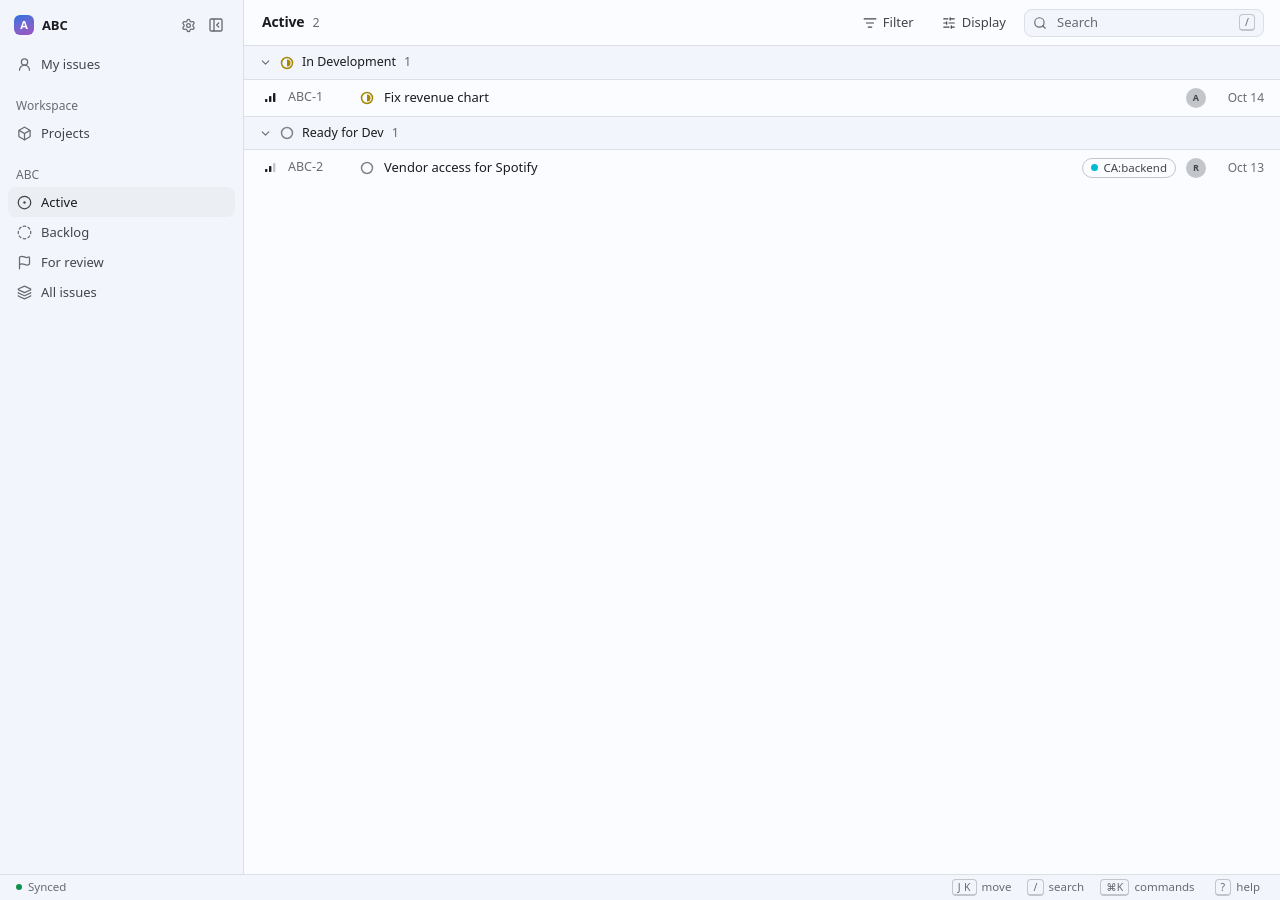
Test: create issue › Escape closes the dialog without creating anything, but first closes an open list
Check: the list named "Issues" is shown, box [244, 46, 1279, 178]
Check: the text "Fix revenue chart" is shown, box [384, 88, 489, 106]
Type keys "c"
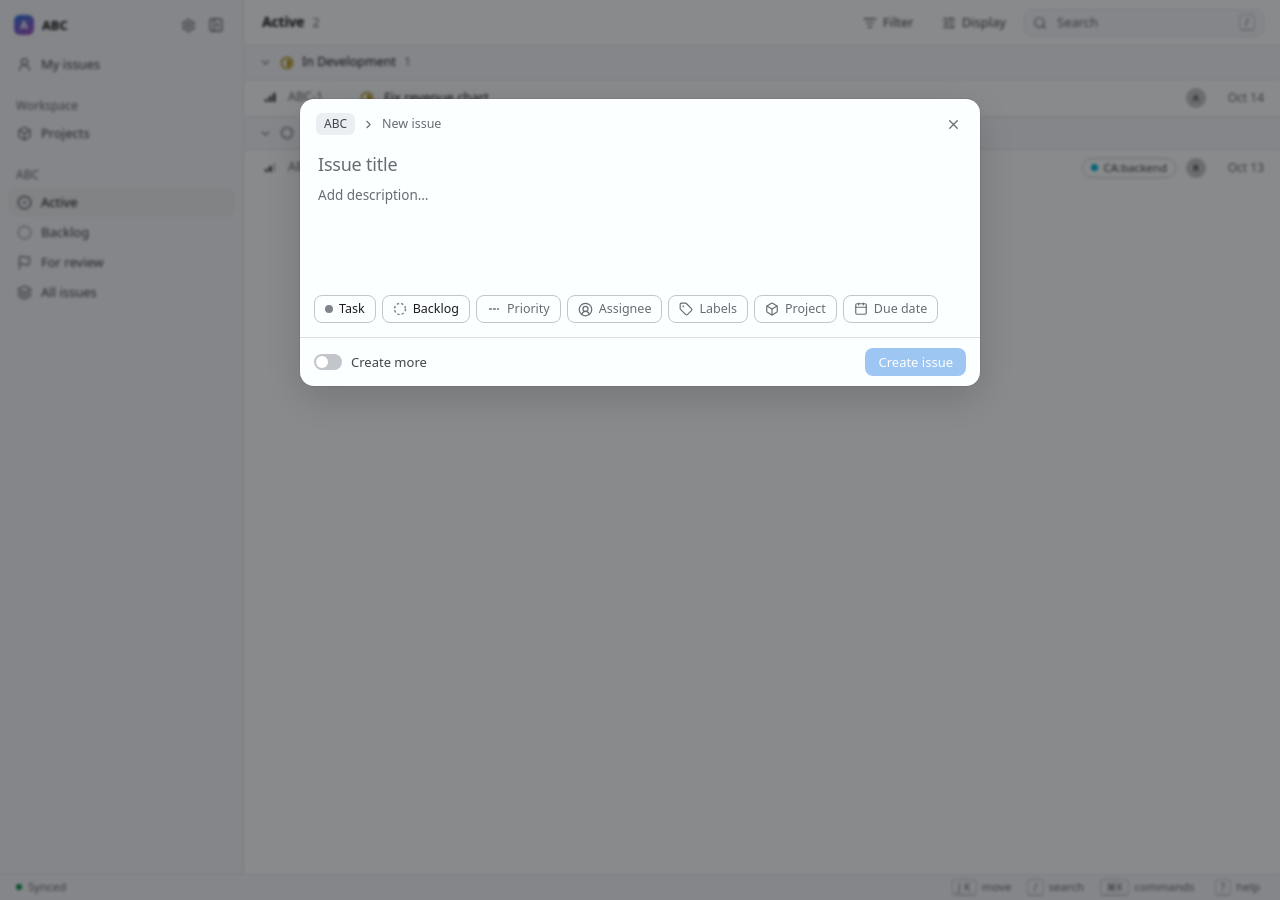
Check: the dialog named "Create issue" is shown, box [300, 99, 980, 386]
Type keys "Never mind"
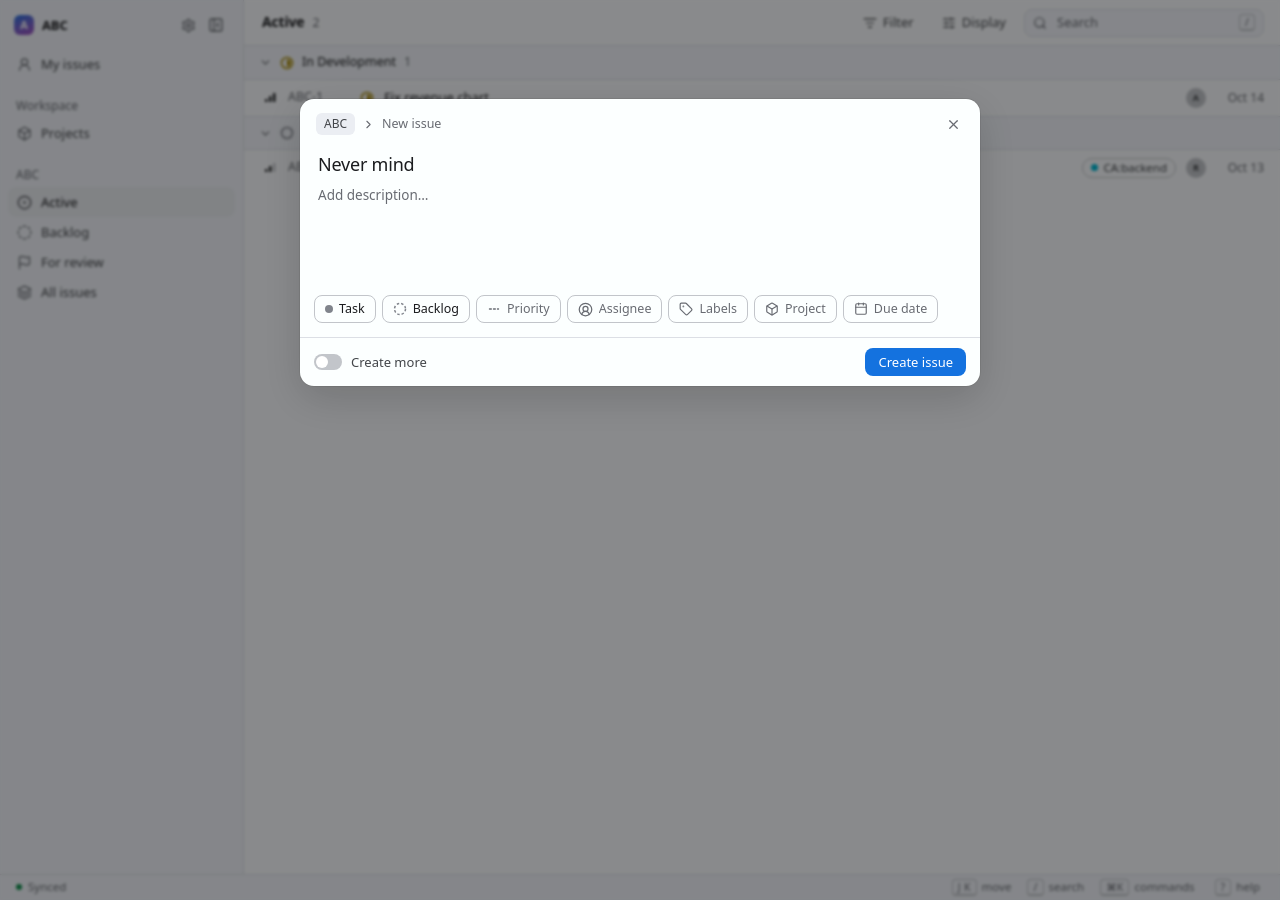
Click the button with aria-label "Status:" at (426, 309), box [382, 295, 470, 323]
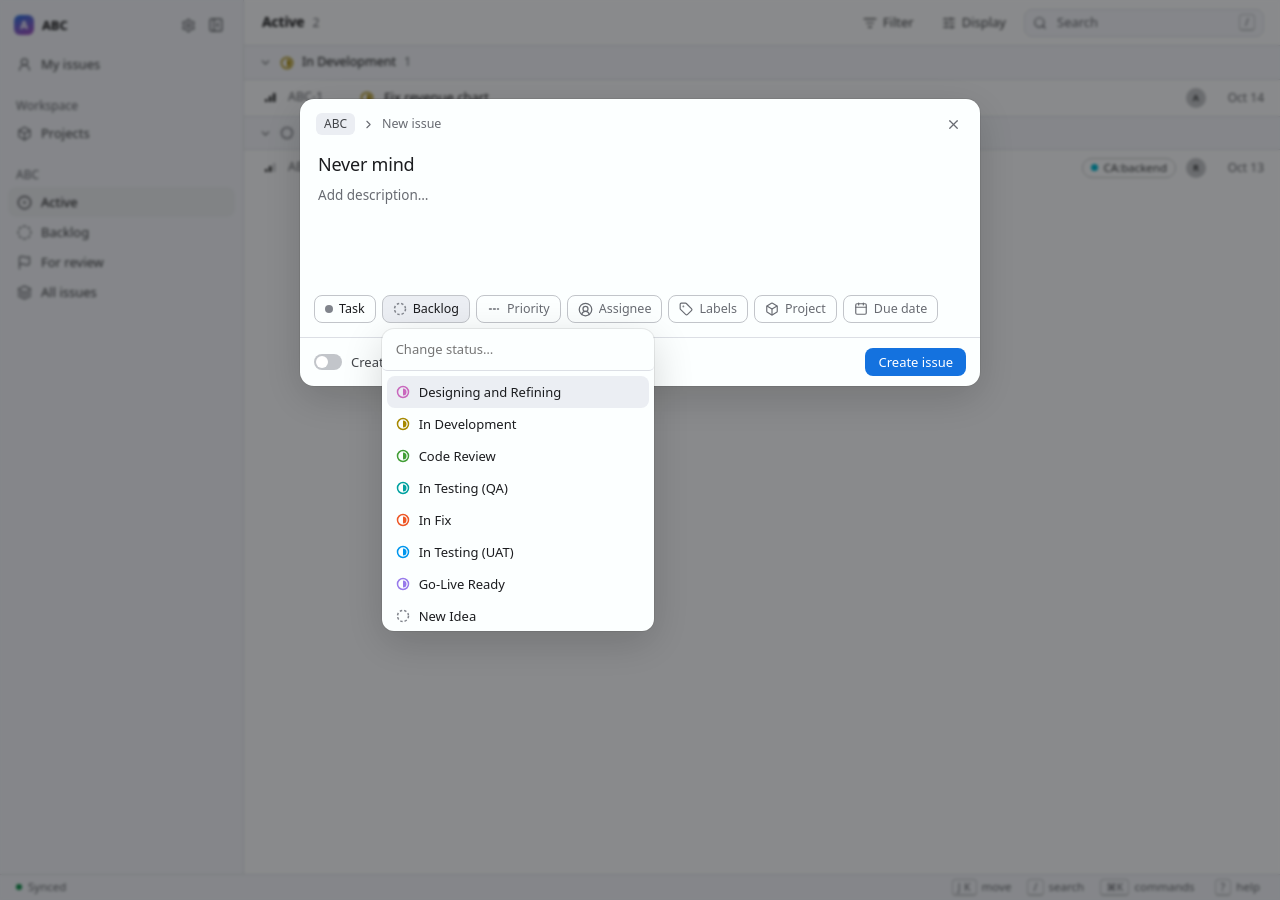
Check: the dialog named "Choose status" is shown, box [382, 329, 654, 631]
Press Escape
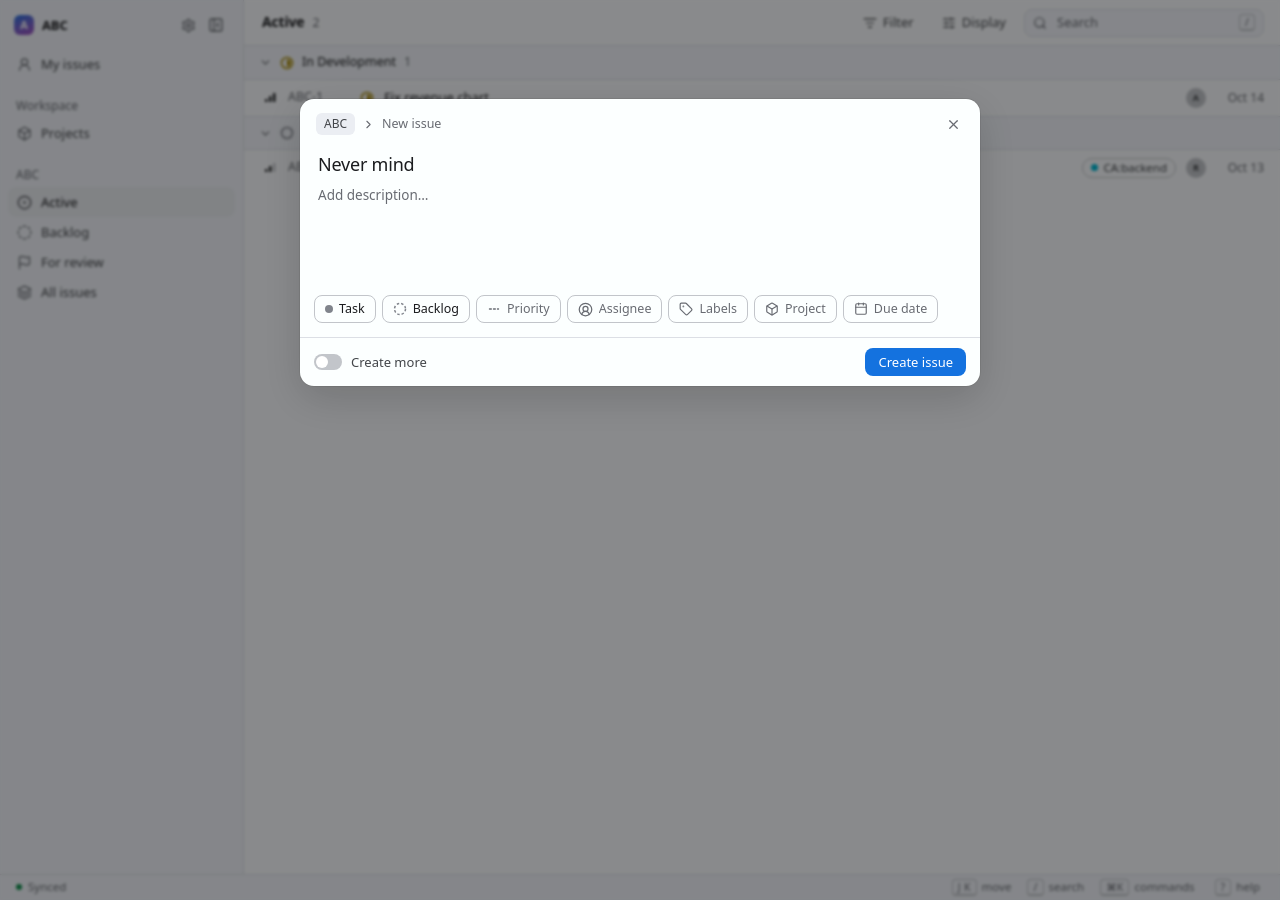
Check: the dialog named "Create issue" is shown, box [300, 99, 980, 386]
Press Escape
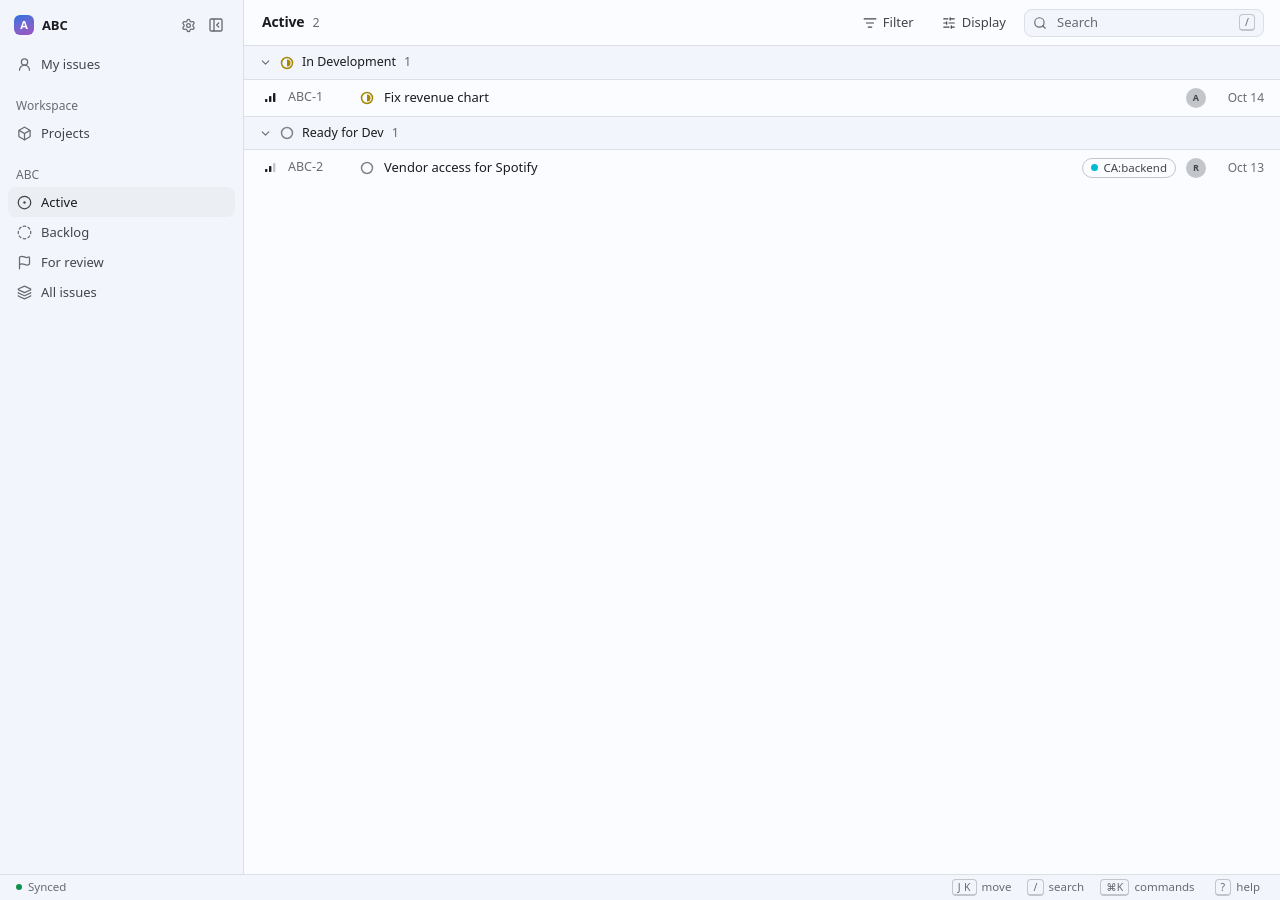
Check: the button "Create issue" is gone
